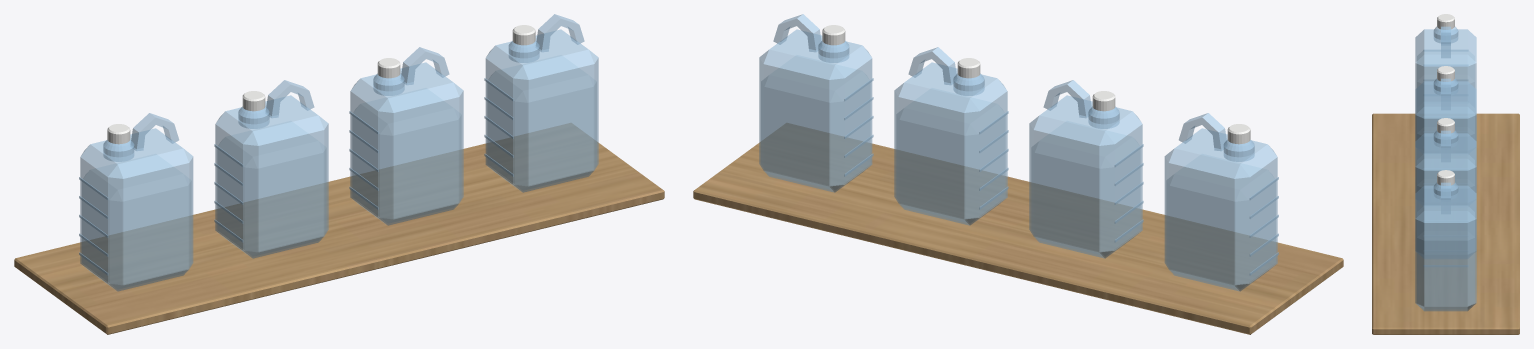
The model's file is galoes_fila.glb.
3 renders of one model, left to right at view 1: azimuth 30°, elevation 25°; view 2: azimuth 150°, elevation 25°; view 3: azimuth 270°, elevation 25°, orthographic. The views are drawn at different scales.
Visible parts, largest first — view 1: galoes_fila_galao_azul, galoes_fila_madeira_crua, galoes_fila_agua, galoes_fila_plastico_branco; view 2: galoes_fila_galao_azul, galoes_fila_madeira_crua, galoes_fila_agua, galoes_fila_plastico_branco; view 3: galoes_fila_madeira_crua, galoes_fila_galao_azul, galoes_fila_agua, galoes_fila_plastico_branco.
Boxes of the visible parts, x1=… form: galoes_fila_galao_azul: x1=79, y1=14, x2=598, y2=291; galoes_fila_madeira_crua: x1=14, y1=123, x2=664, y2=334; galoes_fila_agua: x1=82, y1=55, x2=596, y2=288; galoes_fila_plastico_branco: x1=107, y1=25, x2=535, y2=144; galoes_fila_galao_azul: x1=759, y1=14, x2=1278, y2=291; galoes_fila_madeira_crua: x1=693, y1=123, x2=1343, y2=334; galoes_fila_agua: x1=761, y1=55, x2=1275, y2=288; galoes_fila_plastico_branco: x1=822, y1=25, x2=1250, y2=144; galoes_fila_madeira_crua: x1=1372, y1=113, x2=1519, y2=334; galoes_fila_galao_azul: x1=1415, y1=26, x2=1476, y2=311; galoes_fila_agua: x1=1417, y1=50, x2=1474, y2=308; galoes_fila_plastico_branco: x1=1437, y1=14, x2=1454, y2=185.
Bounding box in the file's own units: 1.24 × 0.348 × 0.36.
Materials: 4 (1 with a texture image).
